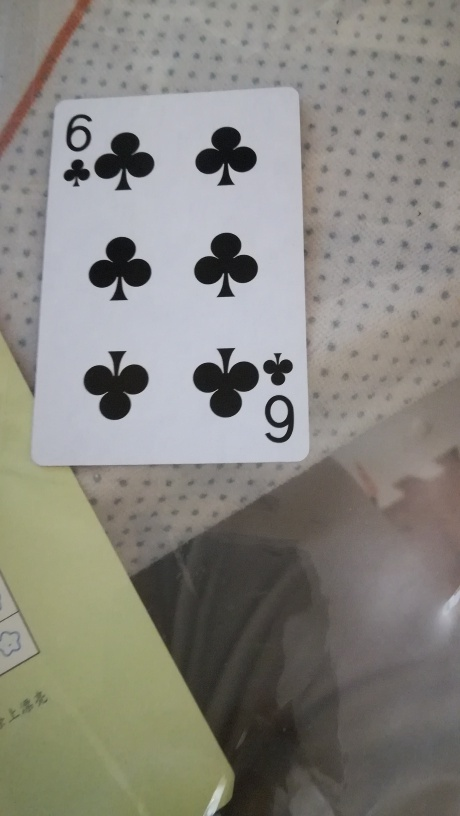mh 6: (28, 86, 311, 471)
